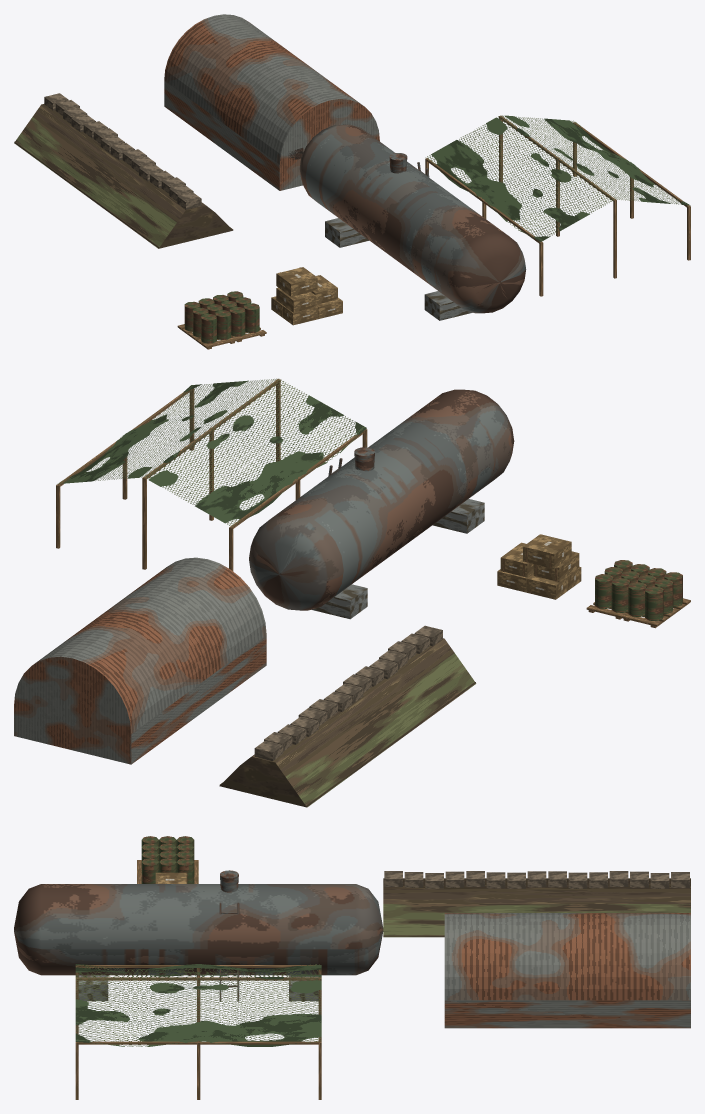
Rendered from depot-kit-own.glb.
3 renders of one model, top to bottom at view 1: azimuth 30°, elevation 25°; view 2: azimuth 150°, elevation 25°; view 3: azimuth 270°, elevation 25°, orthographic. The views are drawn at different scales.
Visible parts, largest first — view 1: FuelTank_Intact, Hut_Intact, CamoNet_Cloth, Berm_Intact, DrumStack_Intact, CrateStack_Intact, CamoNet_Intact; view 2: Hut_Intact, FuelTank_Intact, Berm_Intact, CamoNet_Cloth, DrumStack_Intact, CamoNet_Intact, CrateStack_Intact; view 3: FuelTank_Intact, Hut_Intact, CamoNet_Cloth, Berm_Intact, CamoNet_Intact, DrumStack_Intact.
Boxes of the visible parts, x1,y1,x2,y2 form: FuelTank_Intact: (299, 124, 526, 320); Hut_Intact: (164, 14, 379, 190); CamoNet_Cloth: (425, 115, 690, 241); Berm_Intact: (14, 93, 233, 248); DrumStack_Intact: (177, 291, 266, 349); CrateStack_Intact: (271, 267, 342, 325); CamoNet_Intact: (425, 115, 690, 296); Hut_Intact: (14, 557, 266, 764); FuelTank_Intact: (249, 389, 514, 619); Berm_Intact: (219, 625, 476, 807); CamoNet_Cloth: (58, 378, 366, 526); DrumStack_Intact: (586, 560, 690, 628); CamoNet_Intact: (56, 379, 367, 571); CrateStack_Intact: (497, 534, 581, 599); FuelTank_Intact: (14, 870, 383, 1001); Hut_Intact: (444, 913, 690, 1028); CamoNet_Cloth: (75, 964, 321, 1046); Berm_Intact: (383, 871, 690, 937); CamoNet_Intact: (75, 965, 321, 1099); DrumStack_Intact: (137, 836, 198, 883).
Size of what is drawn, in the model's own units: 18.2 by 3.98 by 22.
2 materials, 2 textured.
